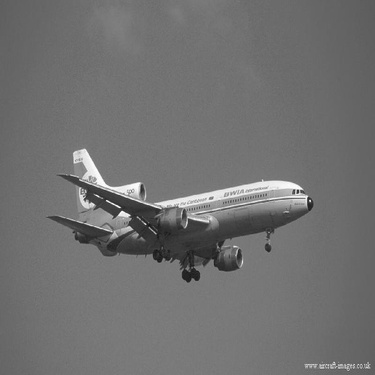airplane: (27, 128, 323, 297)
